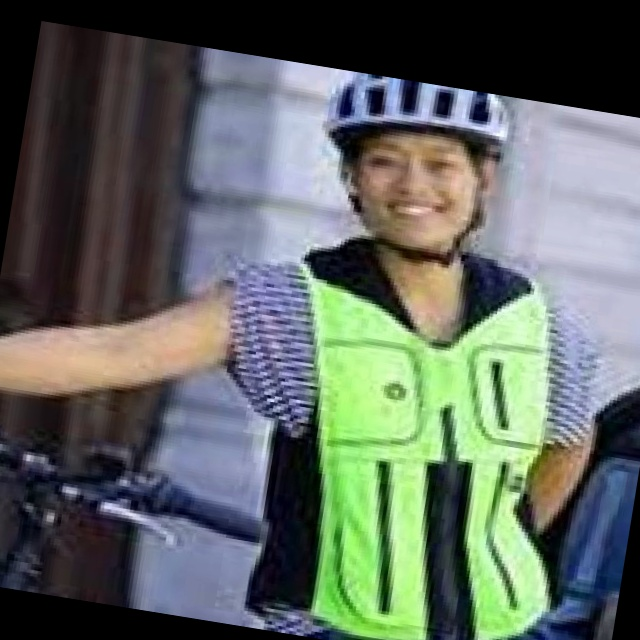Con_Chaleco: (251, 240, 583, 640)
